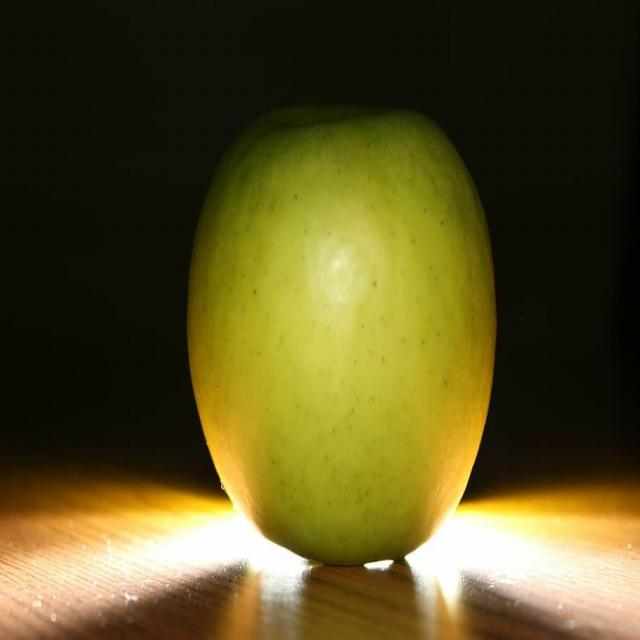Fresh Apple: (192, 106, 496, 585)
